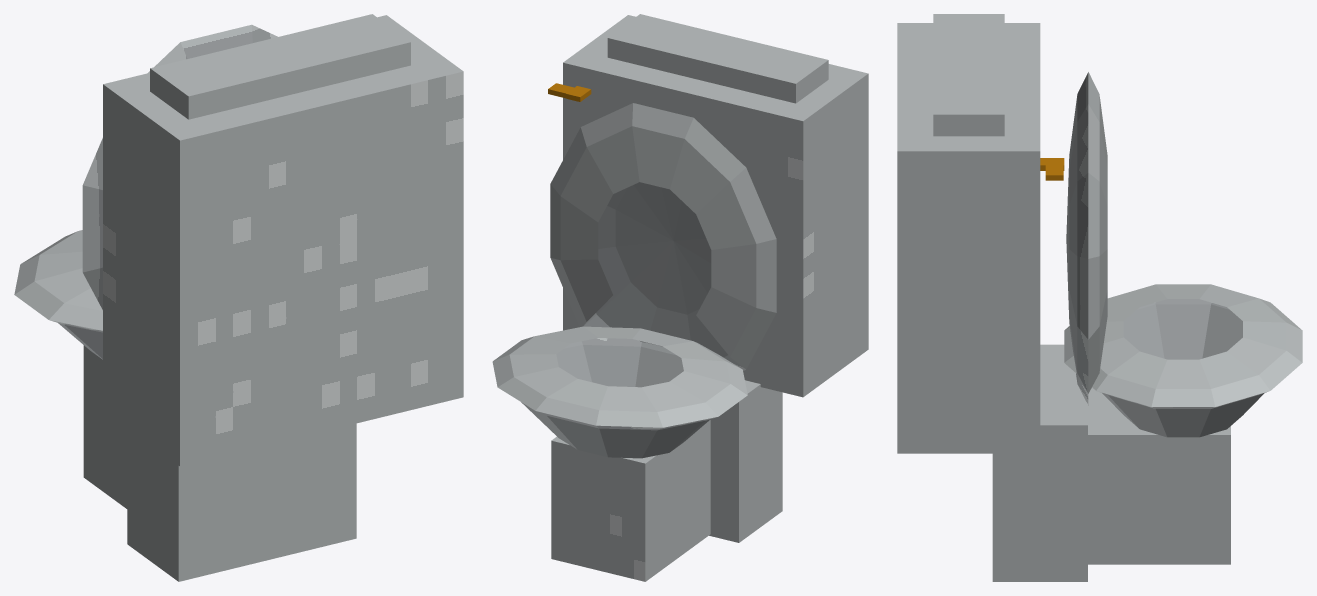
The model's file is toilet.gltf.
3 views of the same model, side by side, from view 1: azimuth 30°, elevation 25°; view 2: azimuth 150°, elevation 25°; view 3: azimuth 270°, elevation 25° (orthographic). The views are drawn at different scales.
Visible parts, largest first — view 1: cube (×4), sphere (×2); view 2: cube (×4), sphere (×2), invsphere; view 3: cube (×4), sphere (×2), invsphere.
Boxes of the visible parts, x1,y1,x2,y2 form: cube (×4): (83, 14, 463, 581); sphere (×2): (14, 24, 277, 359); cube (×4): (551, 14, 868, 581); sphere (×2): (492, 103, 776, 458); invsphere: (521, 349, 701, 457); cube (×4): (897, 14, 1230, 581); sphere (×2): (1064, 72, 1302, 437); invsphere: (1113, 306, 1251, 437).
Size of the model in its own units: 0.8109 by 1.38 by 1.06.
Materials: 1 (1 with a texture image).
